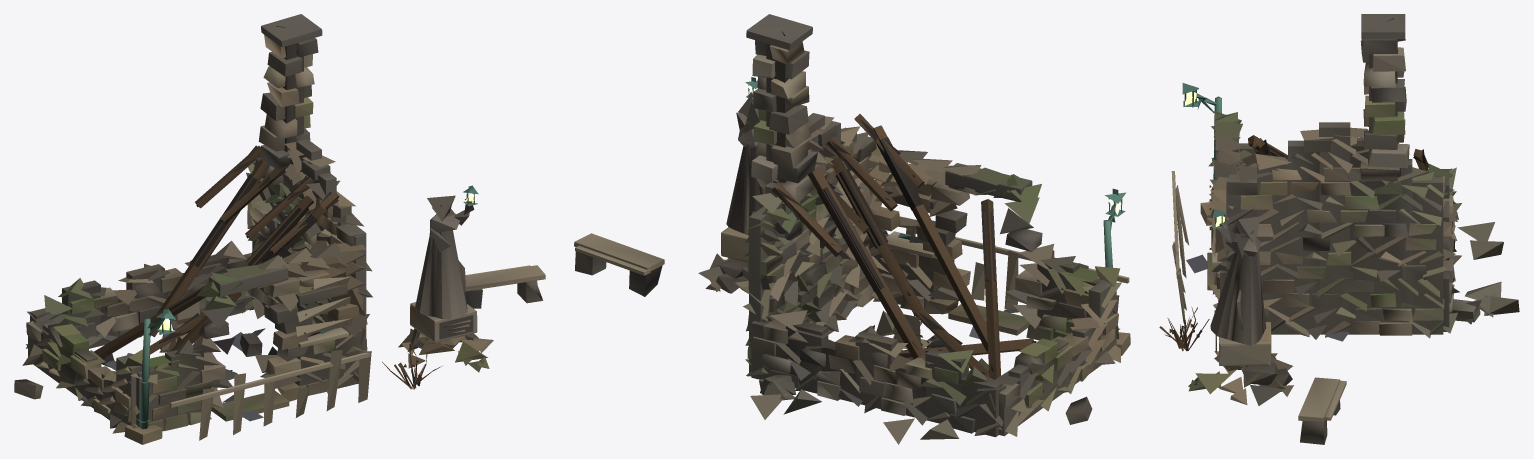
Rendered from widow_memorial_far.glb.
The picture shows the model from 3 angles, left to right: view 1: azimuth 30°, elevation 25°; view 2: azimuth 150°, elevation 25°; view 3: azimuth 270°, elevation 25°; orthographic projection. The views are drawn at different scales.
Visible parts, largest first — view 1: widow_memorial; view 2: widow_memorial; view 3: widow_memorial.
Part boxes in pixels (bbox=[...]): widow_memorial: bbox=[14, 14, 545, 444]; widow_memorial: bbox=[574, 14, 1130, 444]; widow_memorial: bbox=[1159, 14, 1519, 444].
Bounding box in the file's own units: 9.77 × 5.67 × 5.83.
